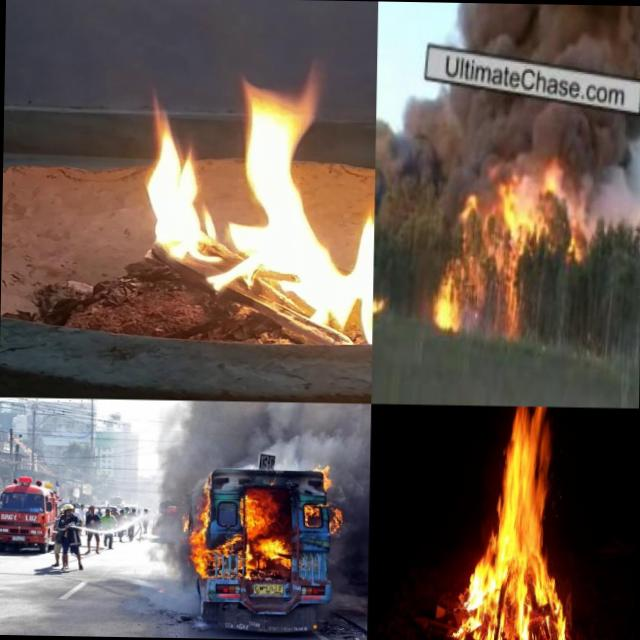fire: (132, 63, 376, 341), (454, 405, 571, 640), (184, 487, 231, 578), (552, 175, 586, 260), (492, 174, 534, 242), (243, 534, 289, 580), (431, 268, 462, 333), (237, 488, 276, 536), (301, 498, 344, 536), (454, 188, 480, 229), (312, 460, 339, 495)
smoke: (152, 400, 370, 473), (402, 103, 588, 175), (148, 469, 193, 619), (585, 119, 640, 225), (338, 474, 369, 610)
